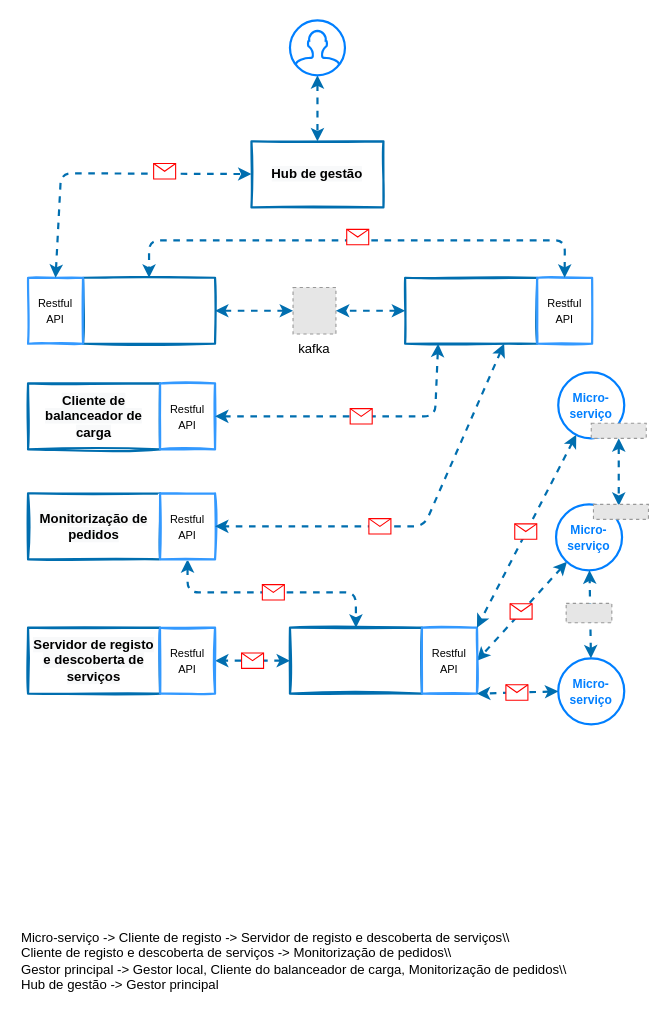
Some shapes in this 668 by 1012 pixel diagram are drawn without their labels. Grey dashed boxes stand in for pictures. The box of each missing label's shape, as (x1, y1, x2, y2) in pixels:
Cliente: (288, 19, 346, 76)
Cliente de registo e descoberta de serviços: (288, 626, 423, 694)
Gestor local: (403, 276, 538, 344)
Gestor principal: (81, 276, 216, 344)
